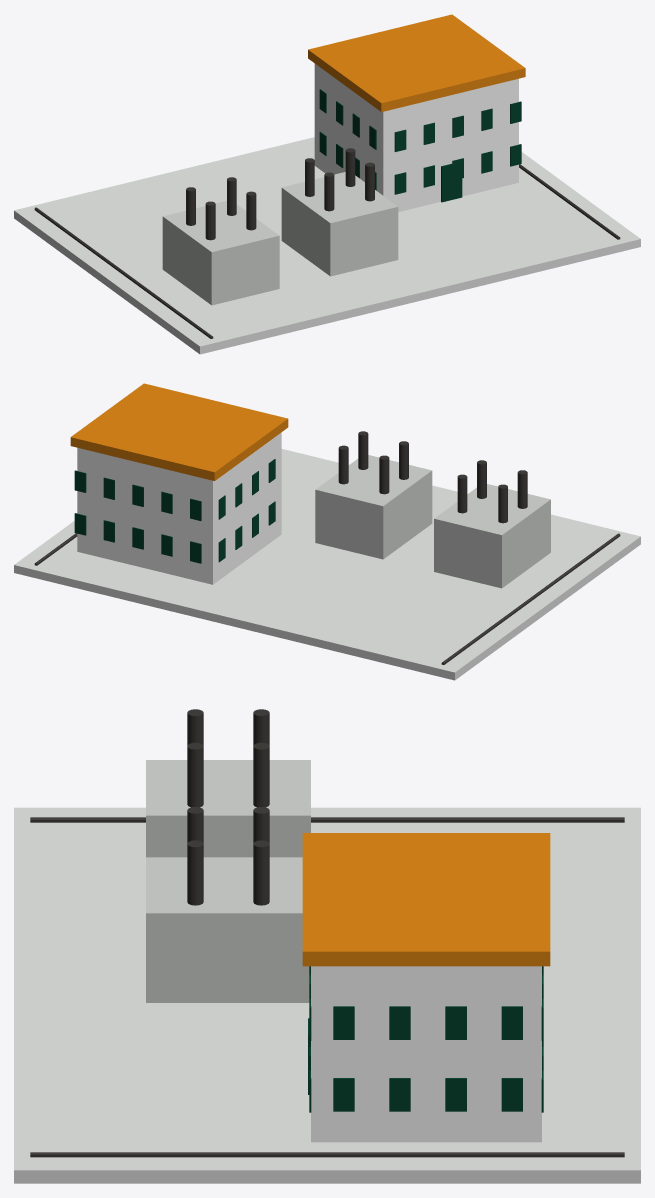
Rendered from substation.glb.
3 renders of one model, top to bottom at view 1: azimuth 30°, elevation 25°; view 2: azimuth 150°, elevation 25°; view 3: azimuth 270°, elevation 25°, orthographic. The views are drawn at different scales.
Visible parts, largest first — view 1: substation-yard_grey, transformer_stone, control-building_white, control-building_amber, control-building_darkgreen, insulator_ink, fence_ink; view 2: substation-yard_grey, control-building_white, transformer_stone, control-building_amber, control-building_darkgreen, insulator_ink, fence_ink; view 3: substation-yard_grey, control-building_white, transformer_stone, control-building_amber, control-building_darkgreen, insulator_ink, fence_ink.
Part boxes in pixels (box(x1,y1,x2,y2)): substation-yard_grey: box(14, 137, 640, 354); transformer_stone: box(162, 172, 398, 305); control-building_white: box(314, 63, 518, 211); control-building_amber: box(308, 14, 525, 111); control-building_darkgreen: box(319, 89, 521, 202); insulator_ink: box(186, 148, 374, 240); fence_ink: box(34, 164, 620, 338); substation-yard_grey: box(14, 449, 640, 680); control-building_white: box(77, 432, 281, 584); transformer_stone: box(315, 455, 550, 588); control-building_amber: box(70, 383, 288, 480); control-building_darkgreen: box(74, 459, 275, 563); insulator_ink: box(338, 431, 527, 523); fence_ink: box(34, 533, 620, 664); substation-yard_grey: box(14, 807, 640, 1183); control-building_white: box(311, 966, 541, 1142); transformer_stone: box(146, 760, 310, 1002); control-building_amber: box(302, 833, 550, 966); control-building_darkgreen: box(308, 966, 543, 1112); insulator_ink: box(187, 709, 269, 905); fence_ink: box(30, 817, 624, 1157).
Bounding box in the file's own units: 26 × 6.95 × 19.
